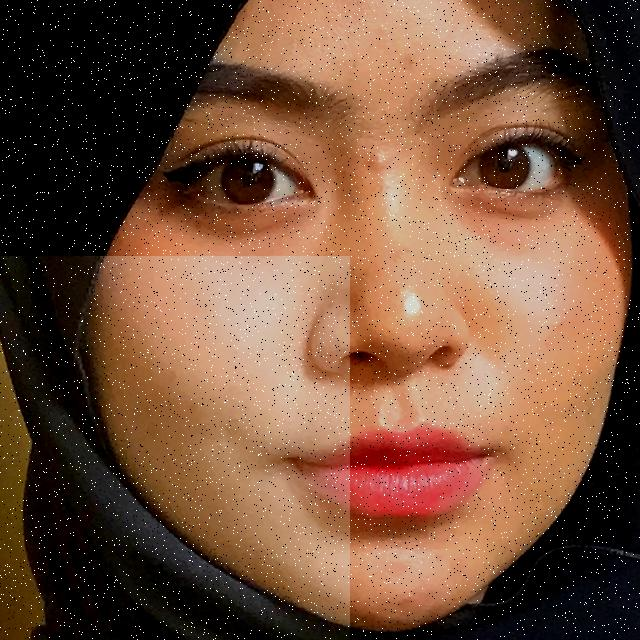kapan: (0, 256, 350, 640)
